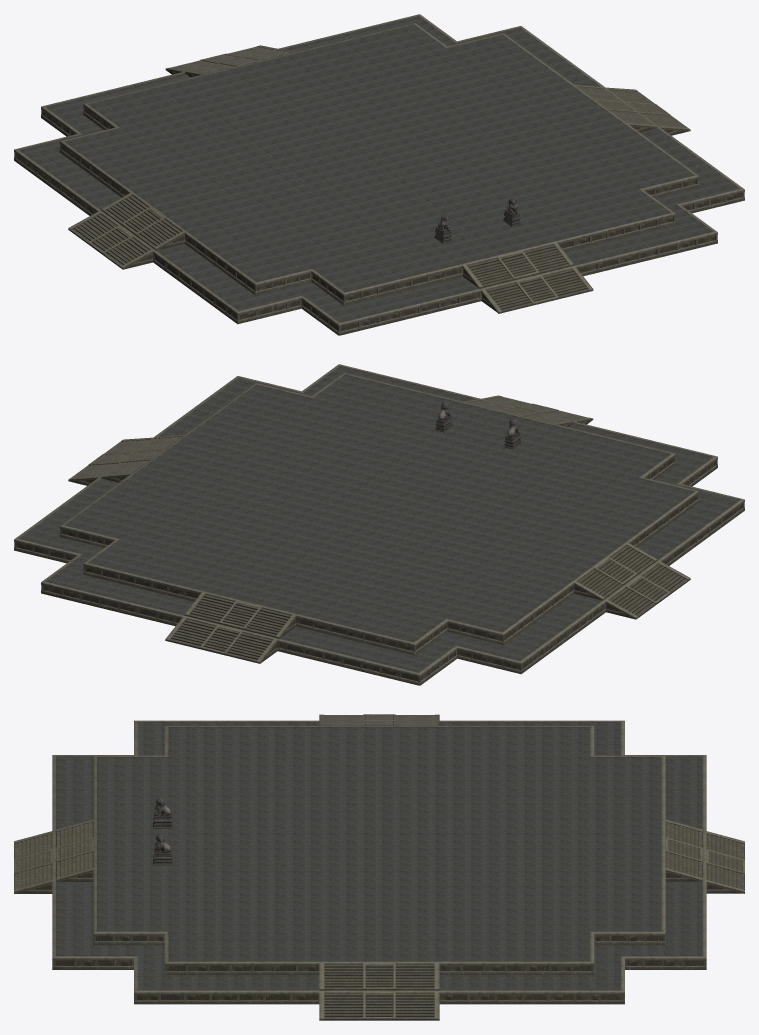
Rendered from Palace Base.fbx.
The picture shows the model from 3 angles, top to bottom: view 1: azimuth 30°, elevation 25°; view 2: azimuth 150°, elevation 25°; view 3: azimuth 270°, elevation 25°; orthographic projection. The views are drawn at different scales.
Parts seen in each view (by area): view 1: di_zhuan, ji_zuo; view 2: di_zhuan, ji_zuo; view 3: di_zhuan, ji_zuo.
Boxes of the visible parts, x1,y1,x2,y2 form: di_zhuan: (19,16,739,322); ji_zuo: (14,14,744,335); di_zhuan: (19,366,739,672); ji_zuo: (14,364,744,685); di_zhuan: (56,722,702,990); ji_zuo: (14,714,744,1020).
Bounding box in the file's own units: 2218 × 176 × 2254.
3 materials, 3 textured.
